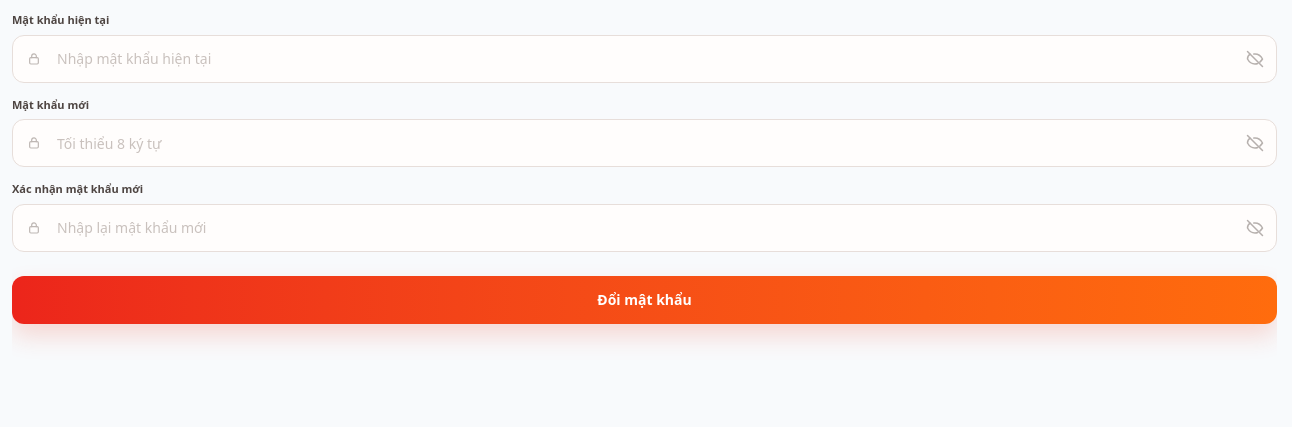
Test: ChangePasswordForm › hiển thị lỗi client-side khi để trống và xóa lỗi khi sửa
This screenshot has width=1292, height=427.
Click the button "Đổi mật khẩu" at (644, 300), box [12, 276, 1277, 324]
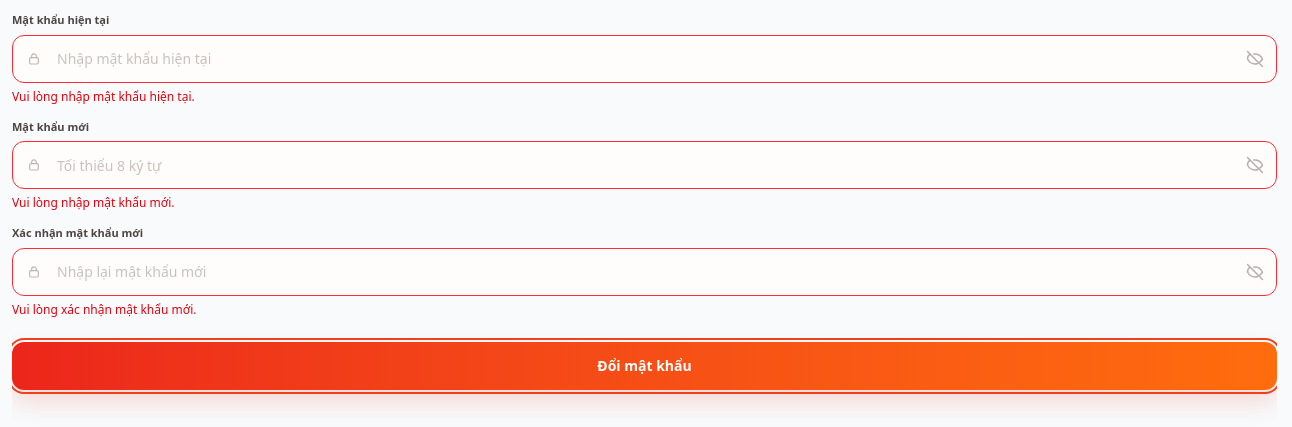
Now the text "Vui lòng nhập mật khẩu hiện tại." is shown, box [12, 88, 195, 104]
Now the text "Vui lòng nhập mật khẩu mới." is shown, box [12, 194, 174, 211]
Now the text "Vui lòng xác nhận mật khẩu mới." is shown, box [12, 300, 196, 318]
Type "oldpassword" into the password field labelled "Mật khẩu hiện tại" at (644, 58), box [12, 34, 1277, 82]
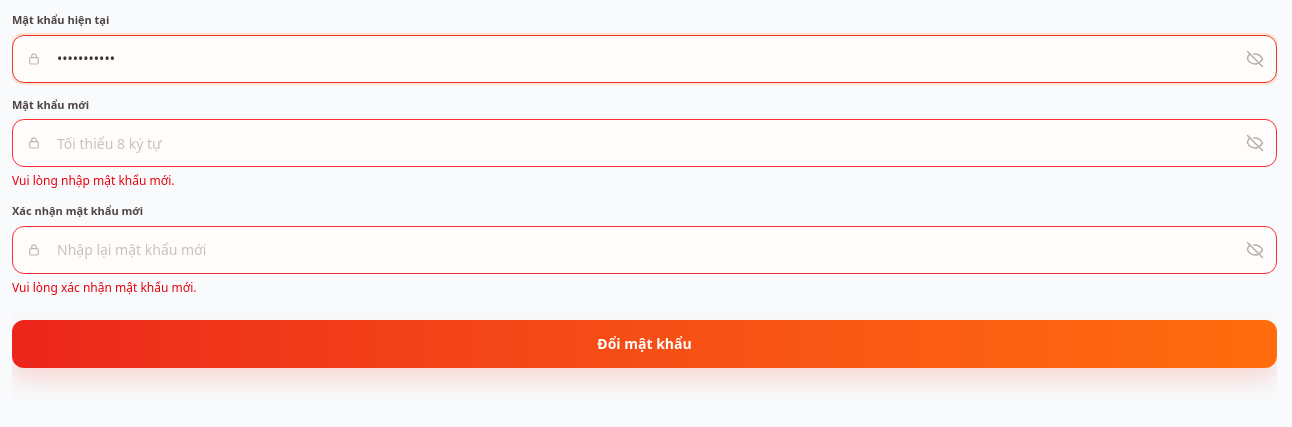
Now the text "Vui lòng nhập mật khẩu hiện tại." is gone
